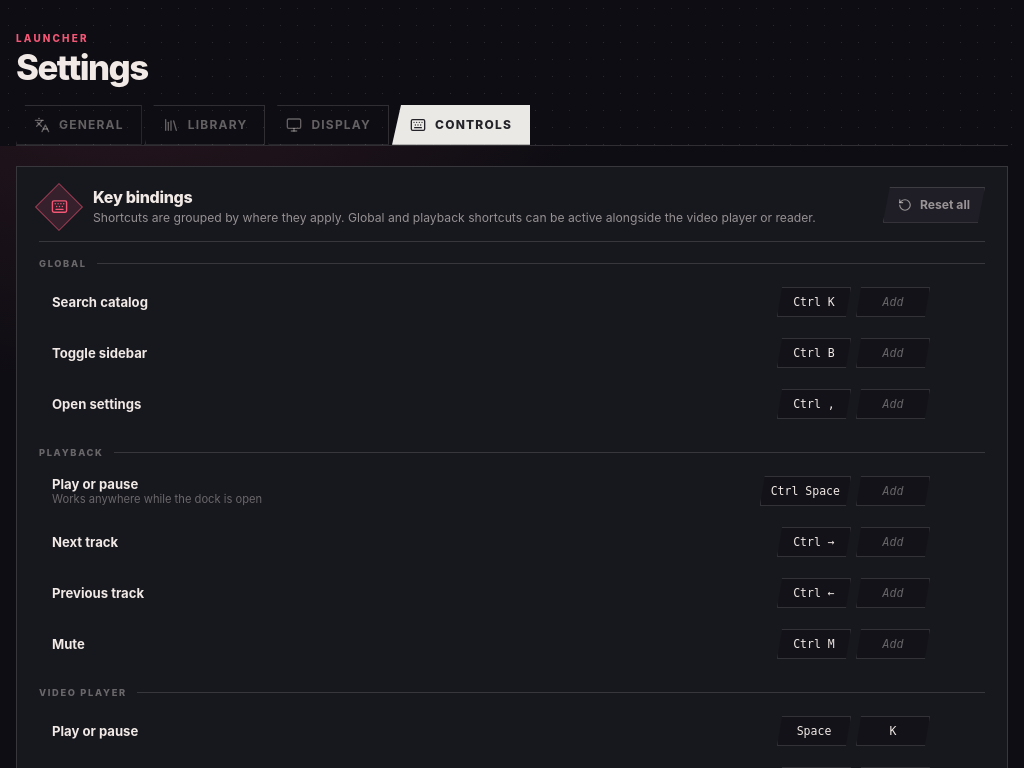
Scenario: SettingsPage › cancels a capture on Escape without changing the binding
The width and height of the screenshot is (1024, 768).
Click the button "Ctrl B". click: (814, 353)
box: [777,338,851,368]
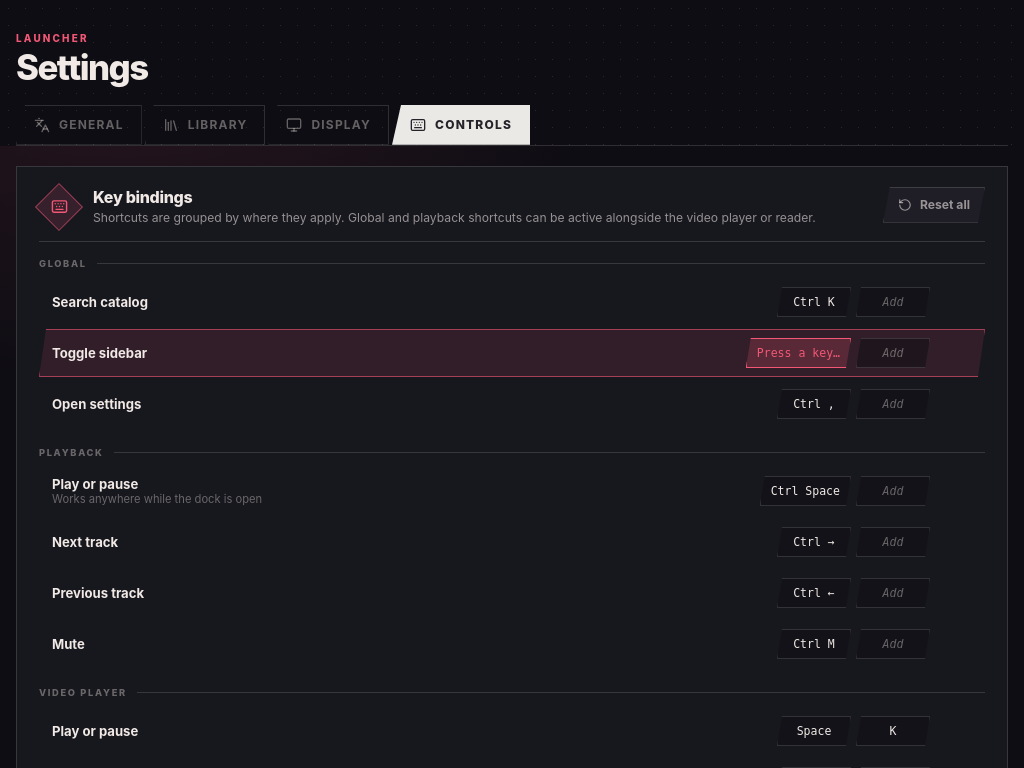
Press Escape
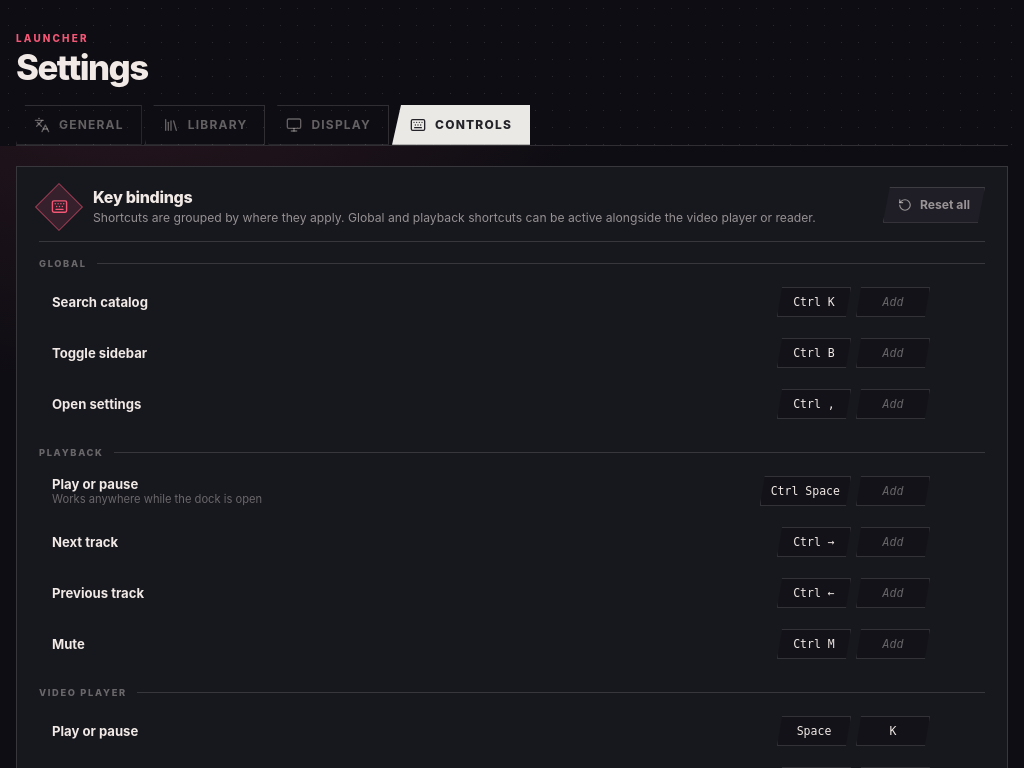
expect the button "Ctrl B" is shown: met, box [777,338,851,368]
